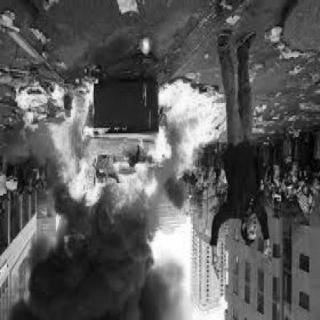Fire: (13, 63, 241, 247)
Smoke: (22, 218, 184, 320)
